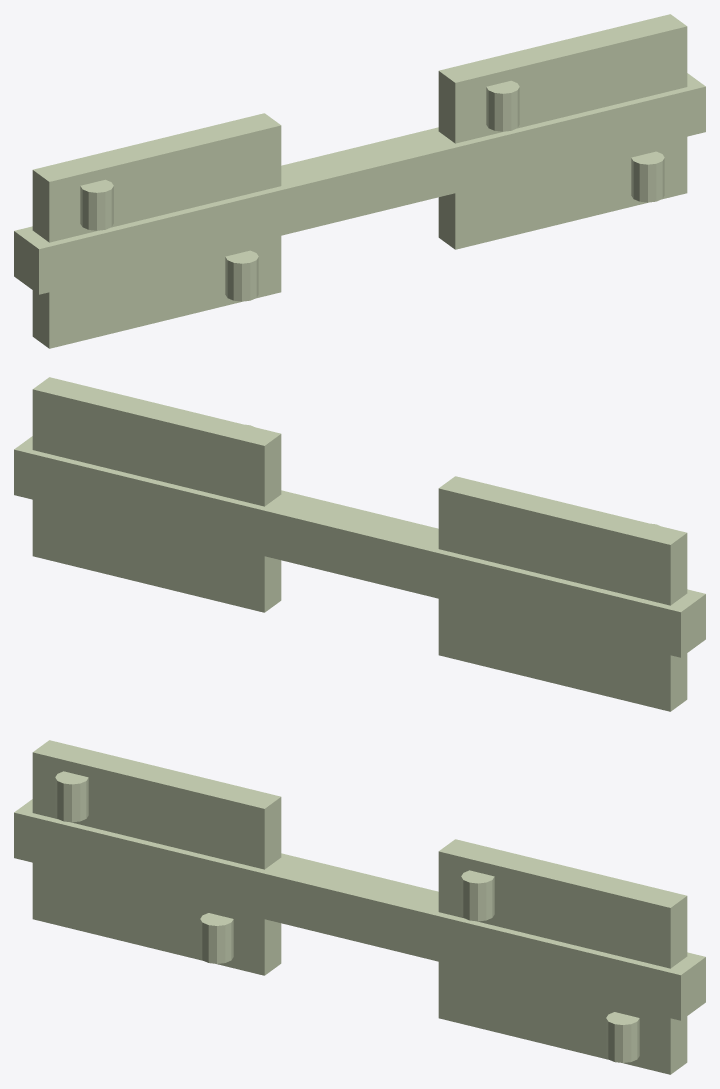
The model's file is furniture_signal_cantilever_mount_plate_pair.glb.
3 views of the same model, one above another, from view 1: azimuth 30°, elevation 25°; view 2: azimuth 150°, elevation 25°; view 3: azimuth 330°, elevation 25° (orthographic).
Parts seen in each view (by area): view 1: tie_bar, plate_right, plate_left, bolt_right_upper, bolt_left_upper, bolt_left_lower, bolt_right_lower; view 2: tie_bar, plate_left, plate_right; view 3: tie_bar, plate_left, plate_right, bolt_right_lower, bolt_right_upper, bolt_left_lower, bolt_left_upper.
Boxes of the visible parts, box(x1,y1,x2,y2) form: tie_bar: box(14, 73, 705, 294); plate_right: box(438, 14, 687, 249); plate_left: box(32, 113, 281, 348); bolt_right_upper: box(486, 80, 519, 131); bolt_left_upper: box(80, 179, 113, 230); bolt_left_lower: box(225, 250, 258, 301); bolt_right_lower: box(631, 151, 664, 202); tie_bar: box(14, 436, 705, 657); plate_left: box(438, 476, 687, 711); plate_right: box(32, 377, 281, 612); tie_bar: box(14, 799, 705, 1020); plate_left: box(32, 740, 281, 975); plate_right: box(438, 839, 687, 1074); bolt_right_lower: box(606, 1012, 639, 1062); bolt_right_upper: box(461, 870, 494, 921); bolt_left_lower: box(200, 913, 233, 963); bolt_left_upper: box(55, 771, 88, 822).
Bounding box in the file's own units: 0.92 × 0.22 × 0.08.
